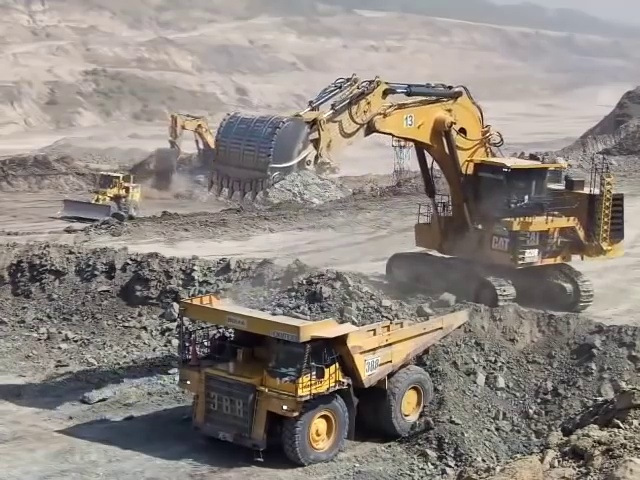dumper: (170, 292, 467, 462)
excavator: (208, 78, 626, 311), (153, 106, 238, 187)
wheel loader: (60, 170, 145, 220)
